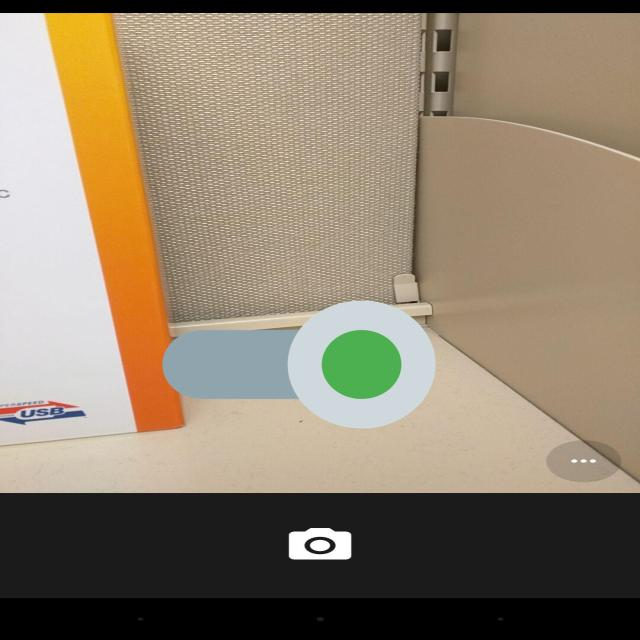social proof: (162, 246, 436, 483)
